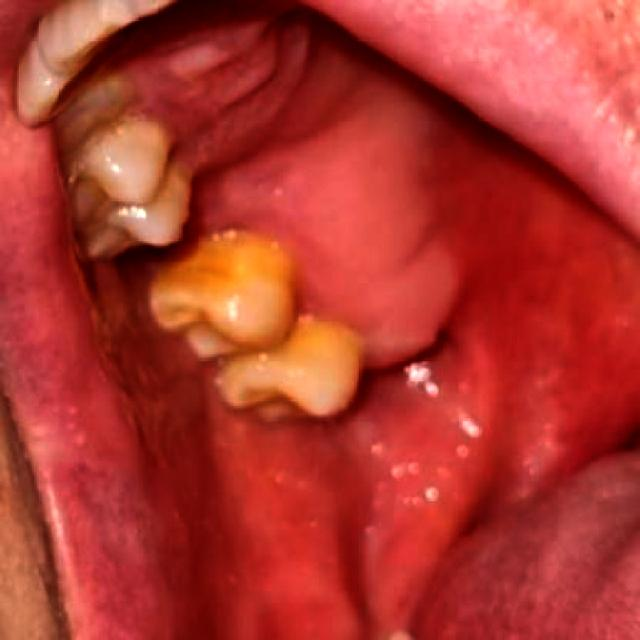Plaque: (202, 193, 395, 365)
